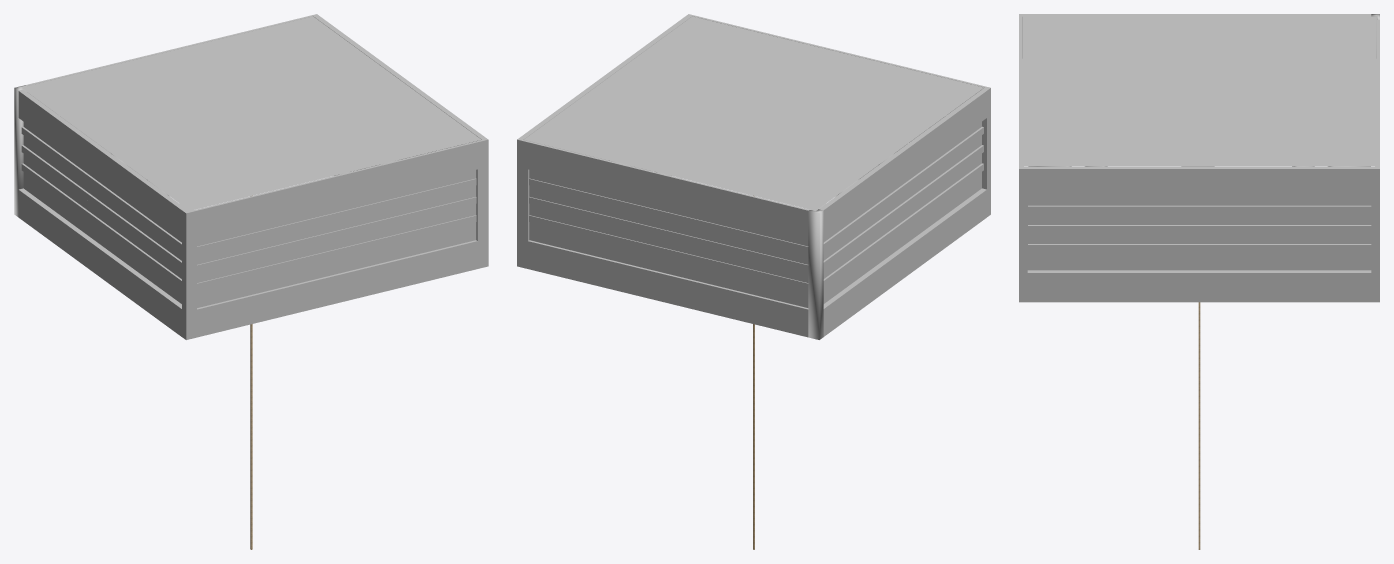
File: 立方体電気.fbx
3 renders of one model, left to right at view 1: azimuth 30°, elevation 25°; view 2: azimuth 150°, elevation 25°; view 3: azimuth 270°, elevation 25°, orthographic. The views are drawn at different scales.
Visible parts, largest first — view 1: 白い部分, 紐; view 2: 白い部分; view 3: 白い部分, 紐.
Part boxes in pixels (x1,y1,x2,y2): 白い部分: [14, 14, 488, 339]; 紐: [250, 195, 252, 549]; 白い部分: [517, 14, 990, 339]; 白い部分: [1019, 14, 1379, 302]; 紐: [1198, 302, 1200, 549].
Size of the model in its own units: 906 by 1248 by 891.
